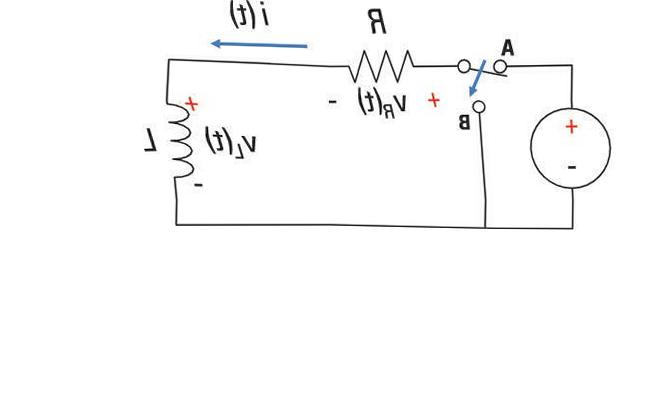Battery: (508, 93, 629, 199)
